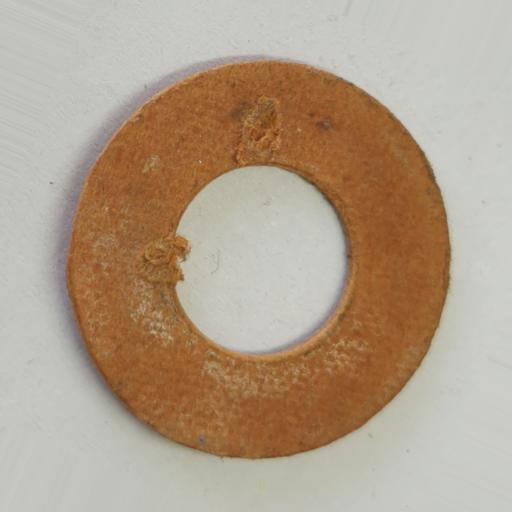defect: (236, 95, 282, 166), (139, 235, 193, 292)
